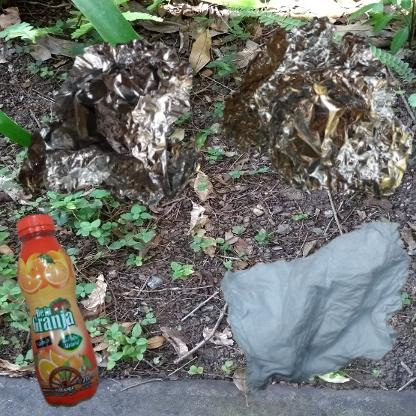aluminio: (10, 10, 255, 272), (213, 10, 416, 211)
botella: (10, 213, 105, 412)
papel: (213, 213, 416, 409)
